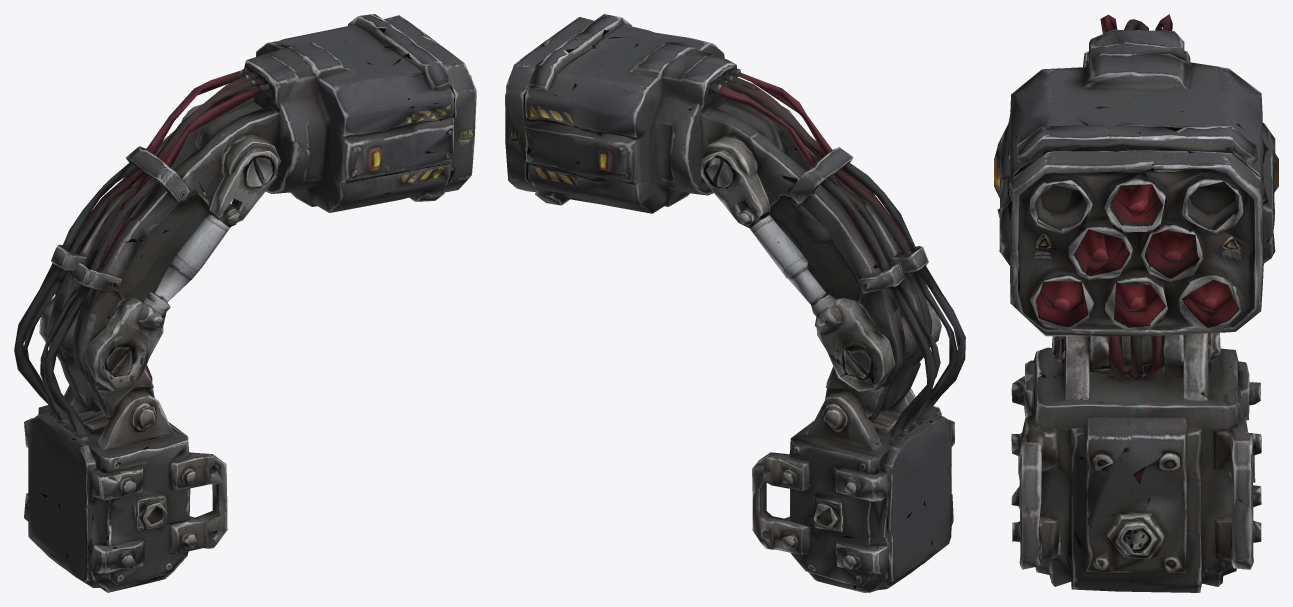
The model's file is goliath_launcher.glb.
The picture shows the model from 3 angles, left to right: view 1: azimuth 30°, elevation 25°; view 2: azimuth 150°, elevation 25°; view 3: azimuth 270°, elevation 25°; orthographic projection. The views are drawn at different scales.
Parts seen in each view (by area): view 1: tripo_part_0; view 2: tripo_part_0; view 3: tripo_part_0.
Boxes of the visible parts, x1=… form: tripo_part_0: x1=14, y1=14, x2=476, y2=592; tripo_part_0: x1=505, y1=14, x2=965, y2=592; tripo_part_0: x1=994, y1=14, x2=1278, y2=592.
Bounding box in the file's own units: 0.9106 × 0.9785 × 0.3908.
1 material, 1 textured.
